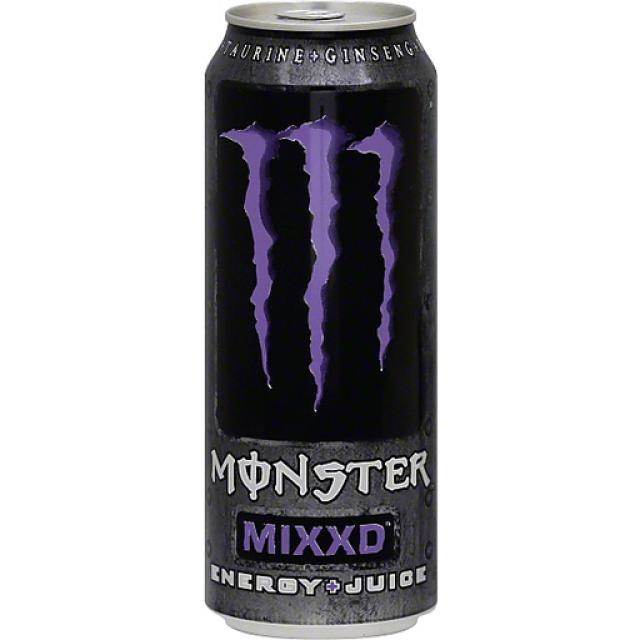Cans: (202, 0, 448, 640)
